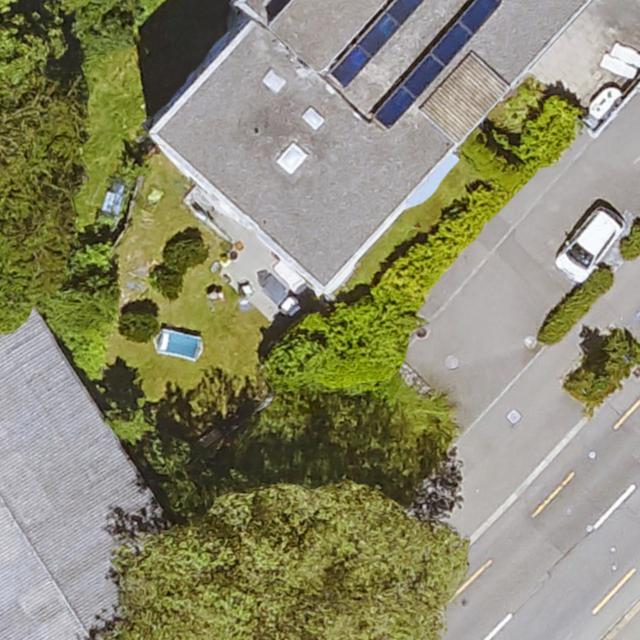tree: (112, 478, 456, 639), (0, 31, 82, 296), (104, 395, 154, 444), (578, 357, 620, 396)
